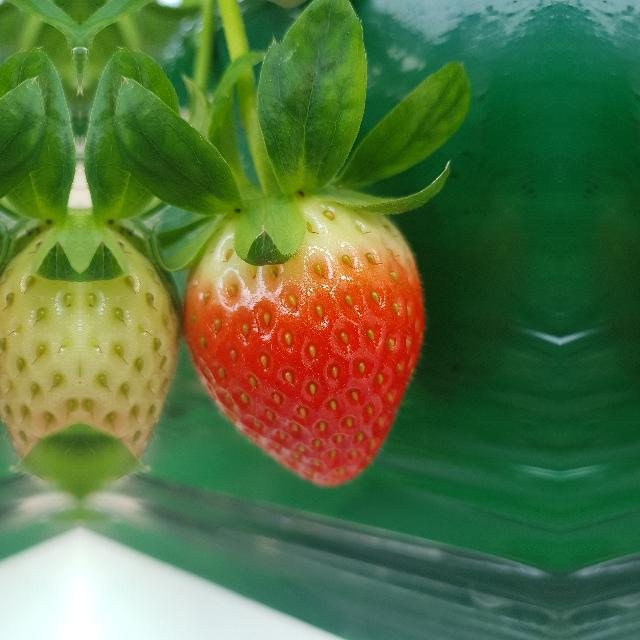Health_50: (81, 212, 180, 476), (0, 211, 78, 476)
Health_75: (181, 190, 425, 488)
